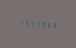five: (23, 18, 28, 27), (47, 20, 52, 29)
one: (35, 19, 40, 28), (17, 18, 22, 26), (29, 19, 34, 27)
three: (53, 21, 58, 29)
zero: (41, 20, 46, 28)
